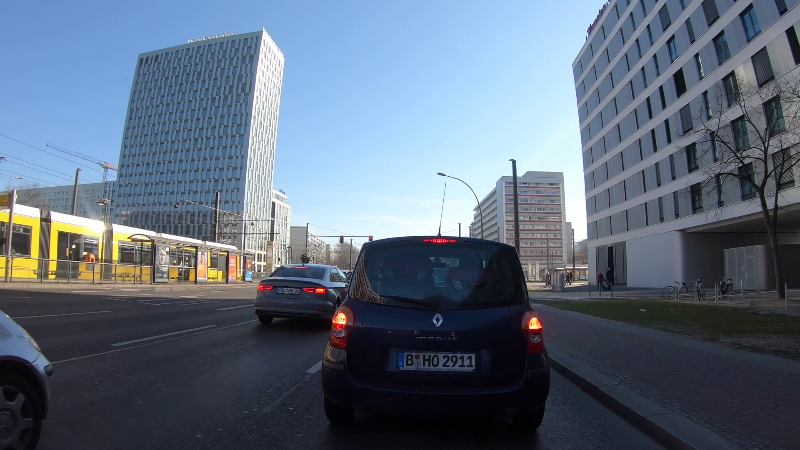Plate: (393, 350, 479, 374), (273, 284, 302, 297)
